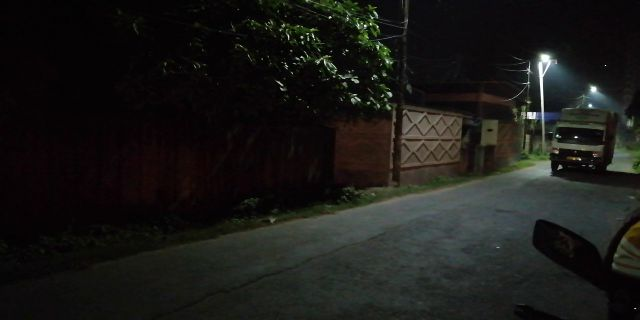Minitruck: (548, 101, 616, 182)
